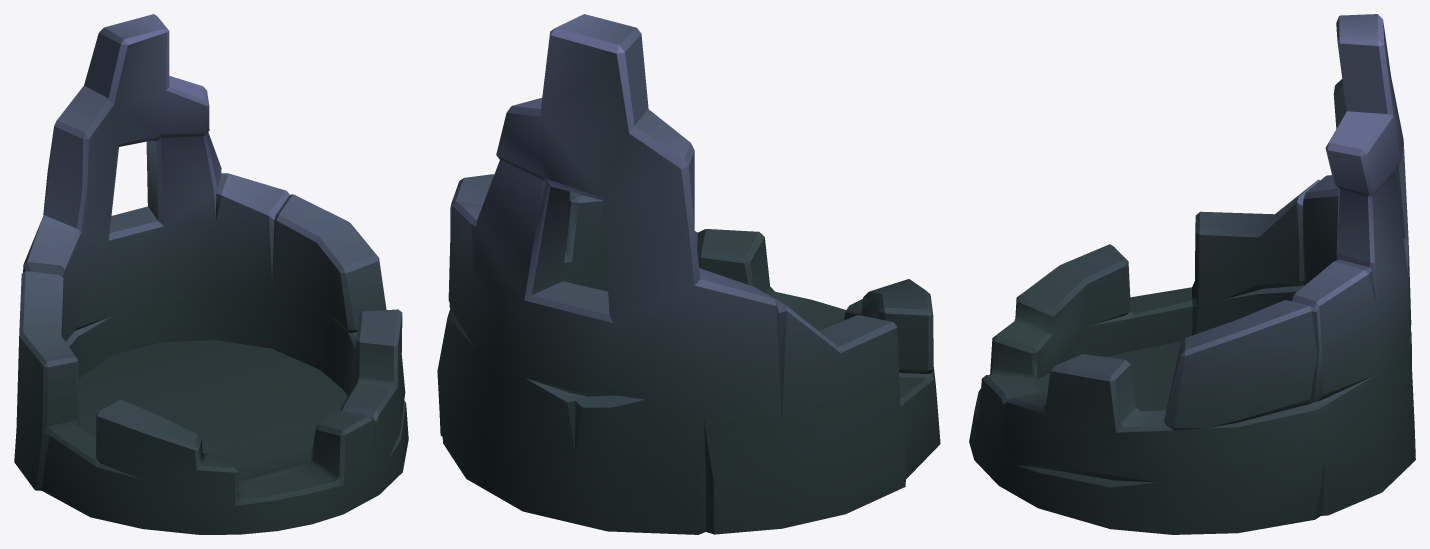
File: undead_ruins_02.fbx
The picture shows the model from 3 angles, left to right: view 1: azimuth 30°, elevation 25°; view 2: azimuth 150°, elevation 25°; view 3: azimuth 270°, elevation 25°; orthographic projection. The views are drawn at different scales.
Visible parts, largest first — view 1: undead_ruins_02; view 2: undead_ruins_02; view 3: undead_ruins_02.
Boxes of the visible parts, <box> form: undead_ruins_02: <box>14,14,408,534</box>; undead_ruins_02: <box>437,14,940,534</box>; undead_ruins_02: <box>969,14,1415,534</box>.
Size of the model in its own units: 7.42 by 7.66 by 7.47.
